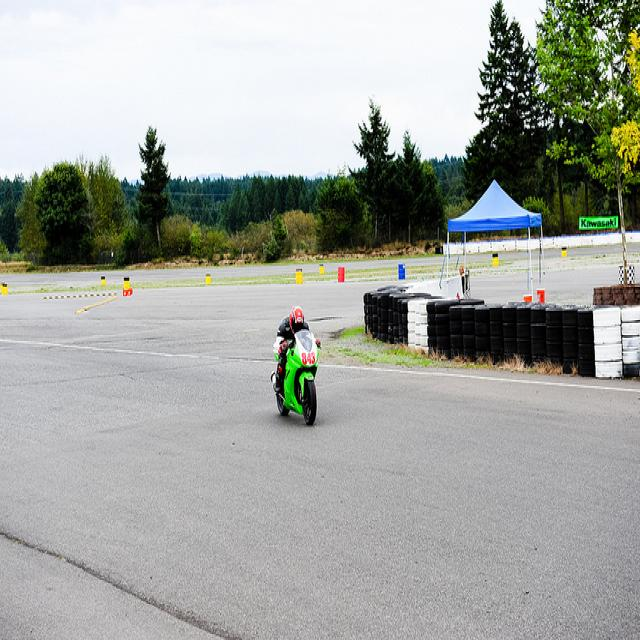motor: (270, 329, 321, 426)
